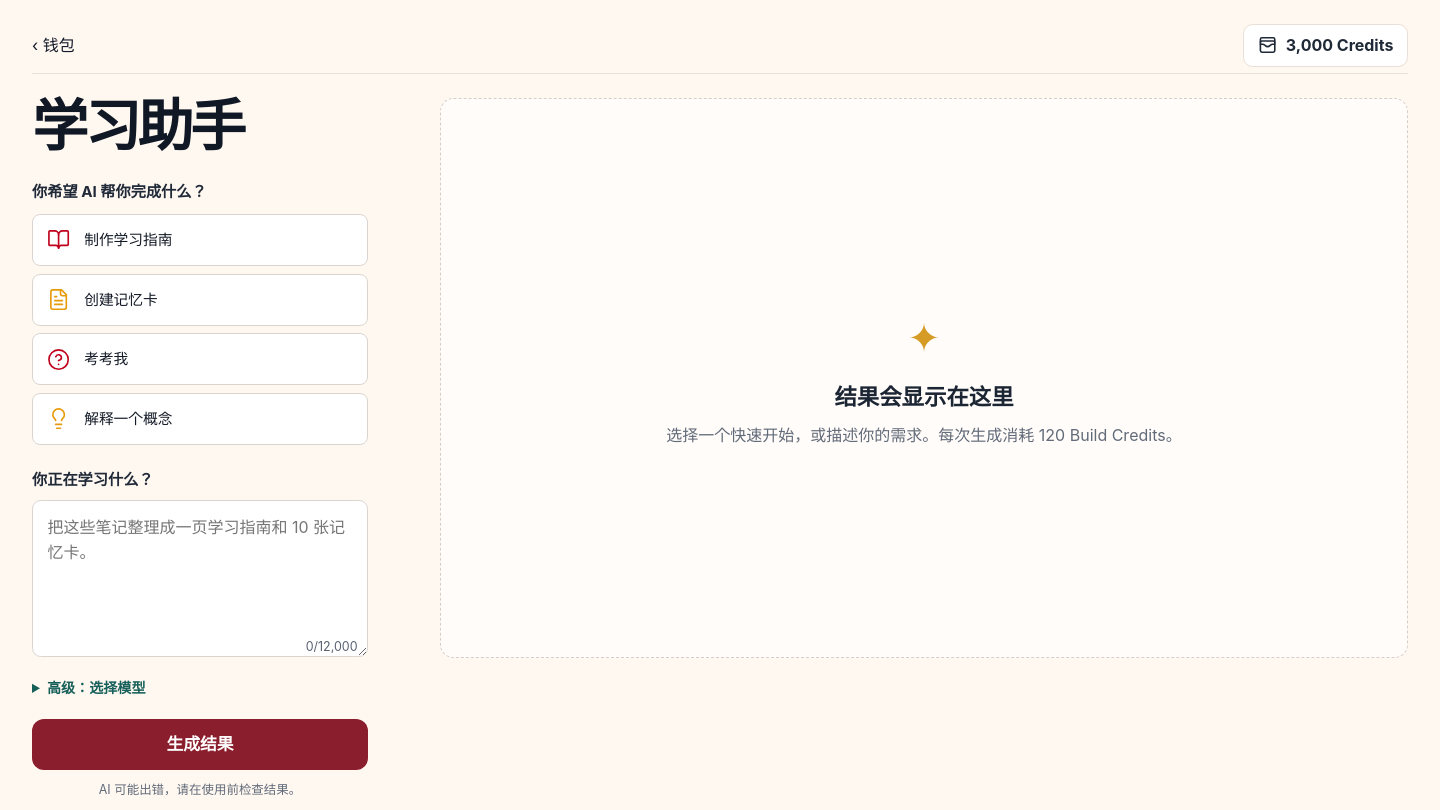
it: TaskShell › maps a paused save response to localized pause guidance in zh
Click the button "制作学习指南": (128, 240) [32,214,368,266]
(page scrolled)
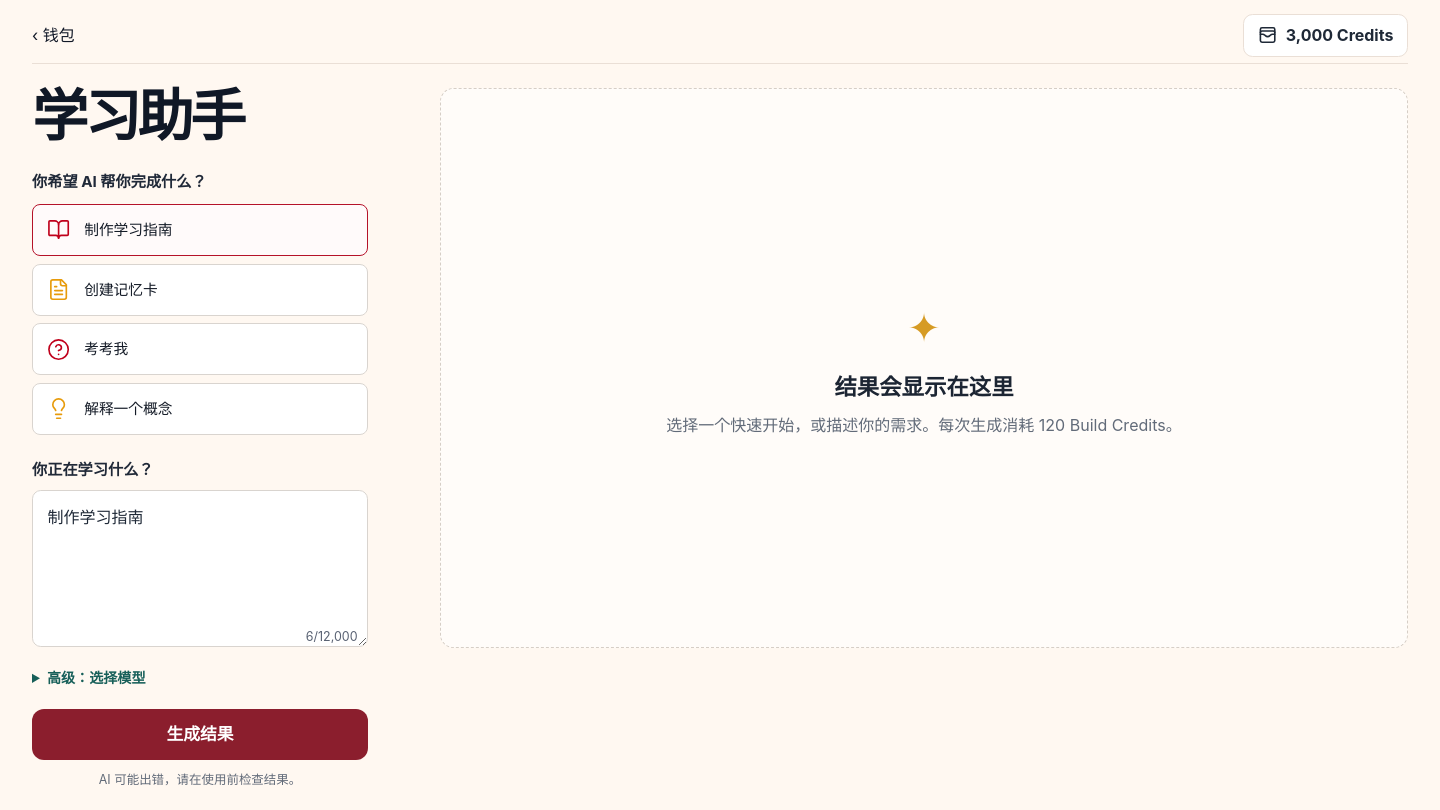
Submit the form
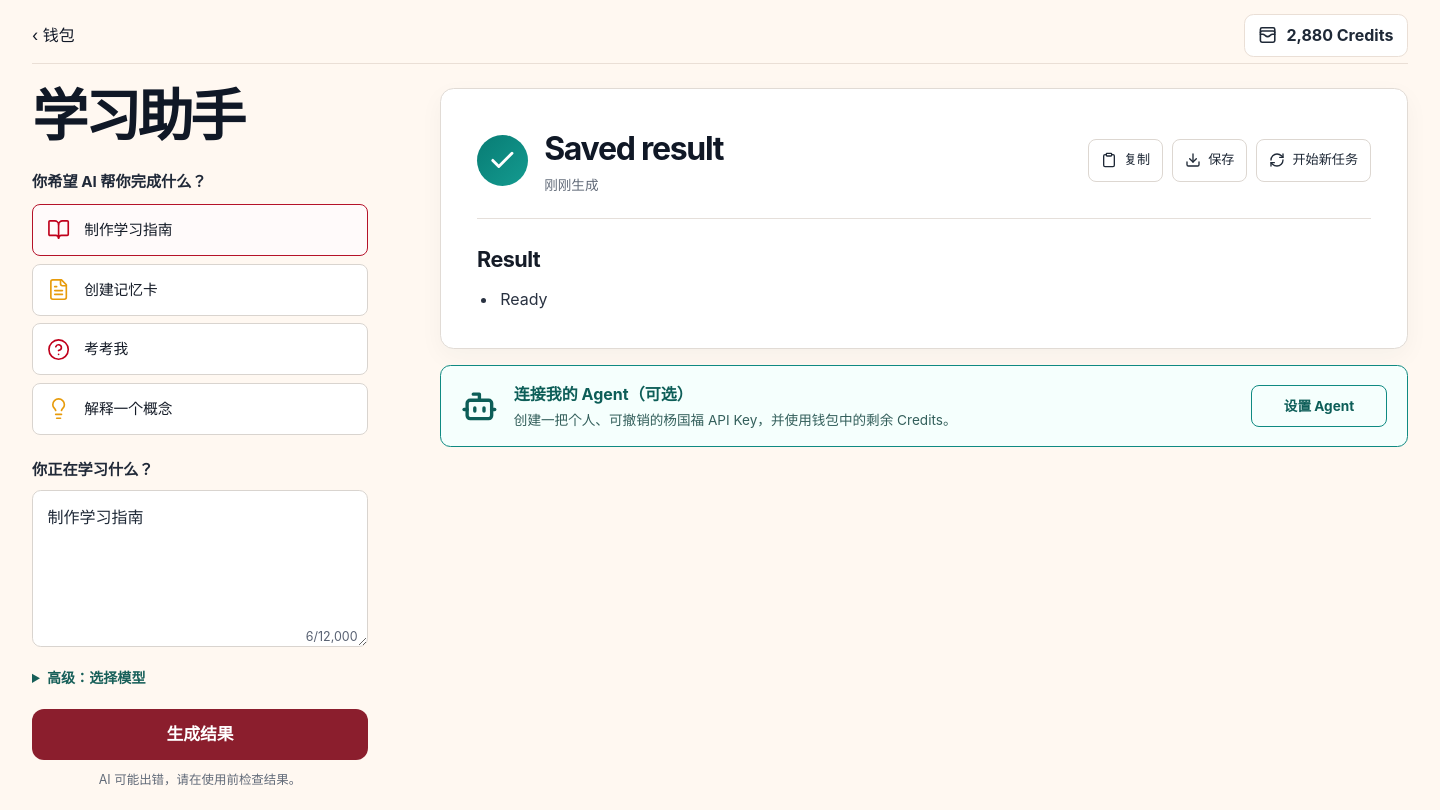
Expected: the button "保存" is shown
Click the button "保存": (1210, 160) [1172,139,1247,182]
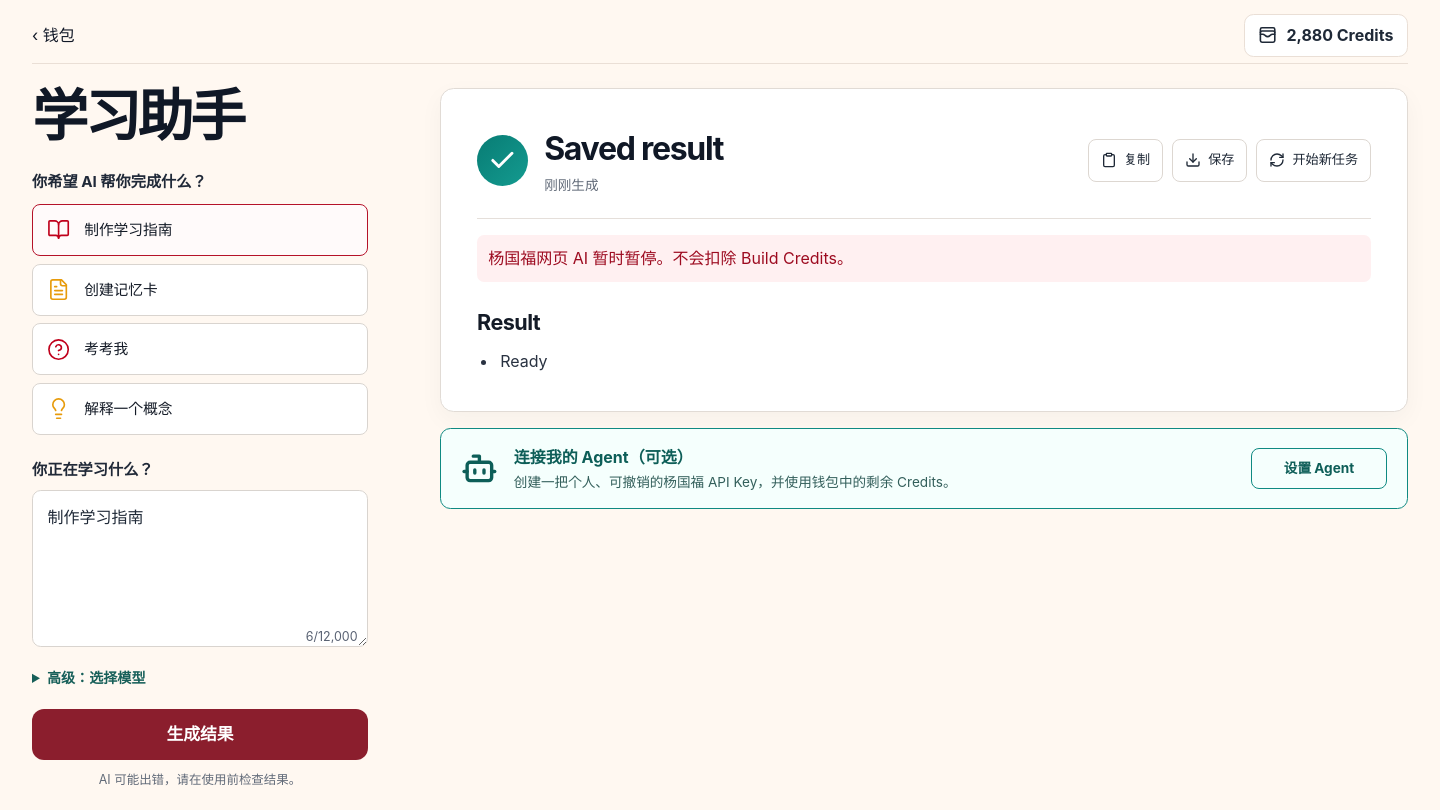
Expected: the text "杨国福网页 AI 暂时暂停。不会扣除 Build Credits。" is shown, [477,235,1371,282]
